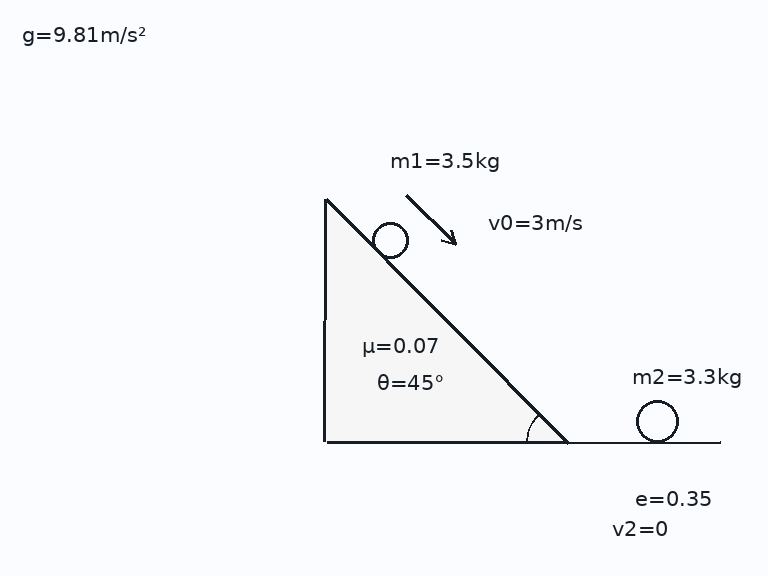ball: (634, 398, 680, 444), (370, 220, 410, 260)
ramp: (323, 198, 569, 444)
